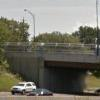Bridge: (7, 31, 94, 73)
